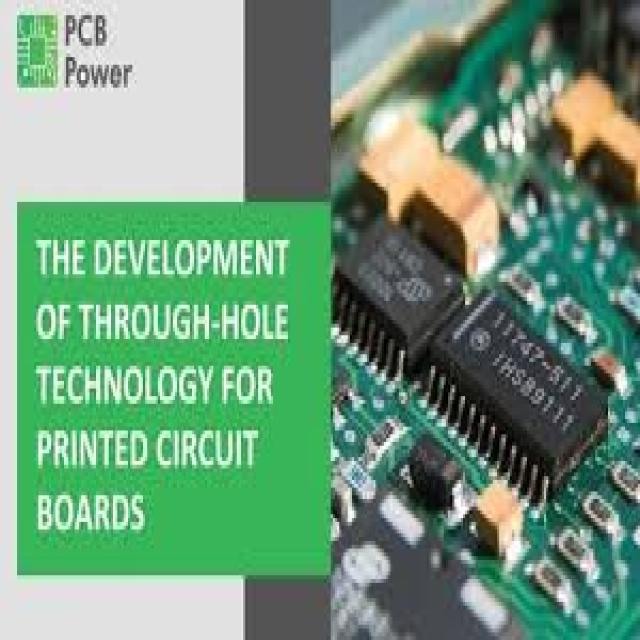pcb: (330, 0, 638, 636), (331, 195, 606, 514), (422, 286, 608, 503)
